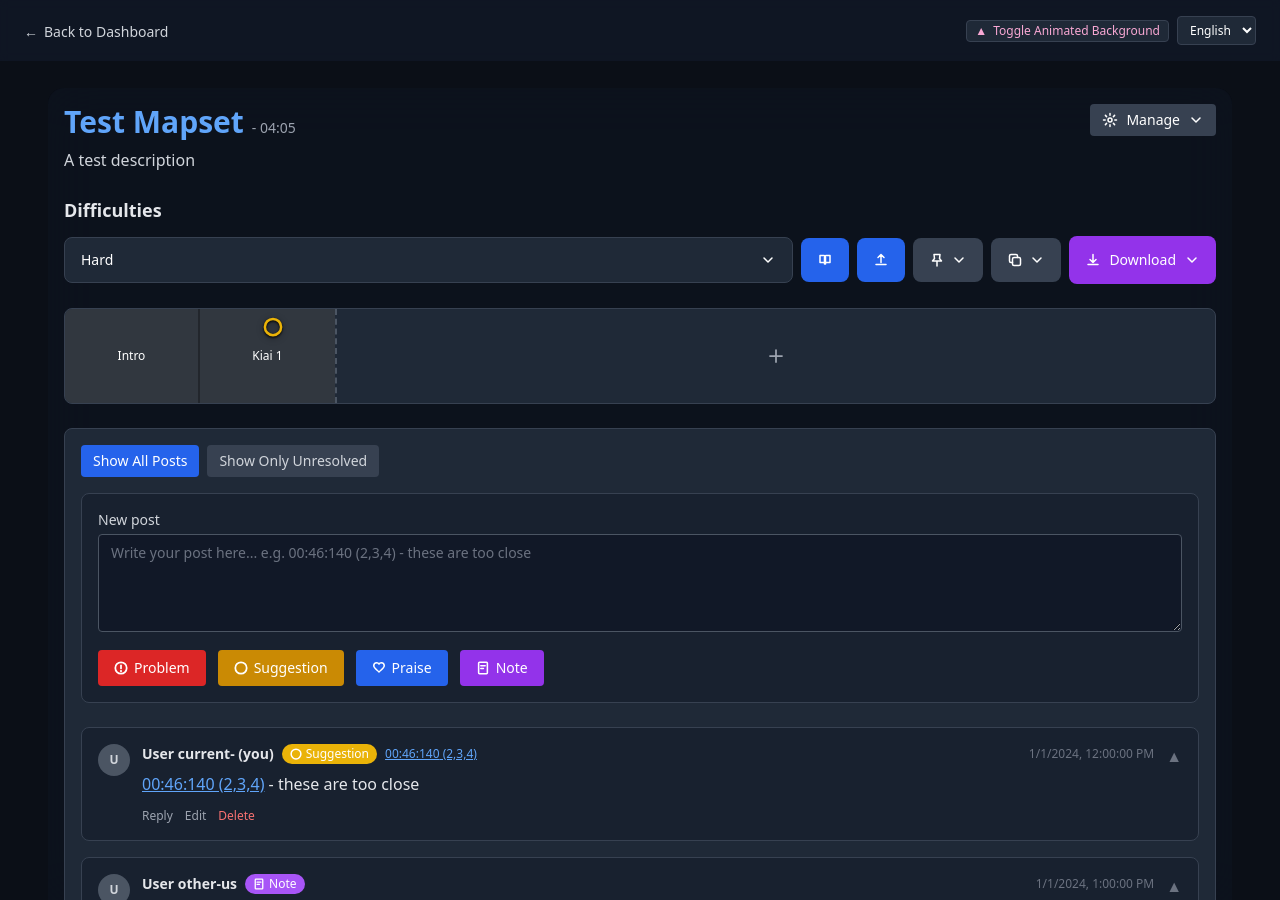
MapsetPage › opens create difficulty modal when Add Difficulty is clicked
Click the button with aria-label "Toggle difficulty list".
click(97, 260)  # box left=64, top=237, right=793, bottom=283
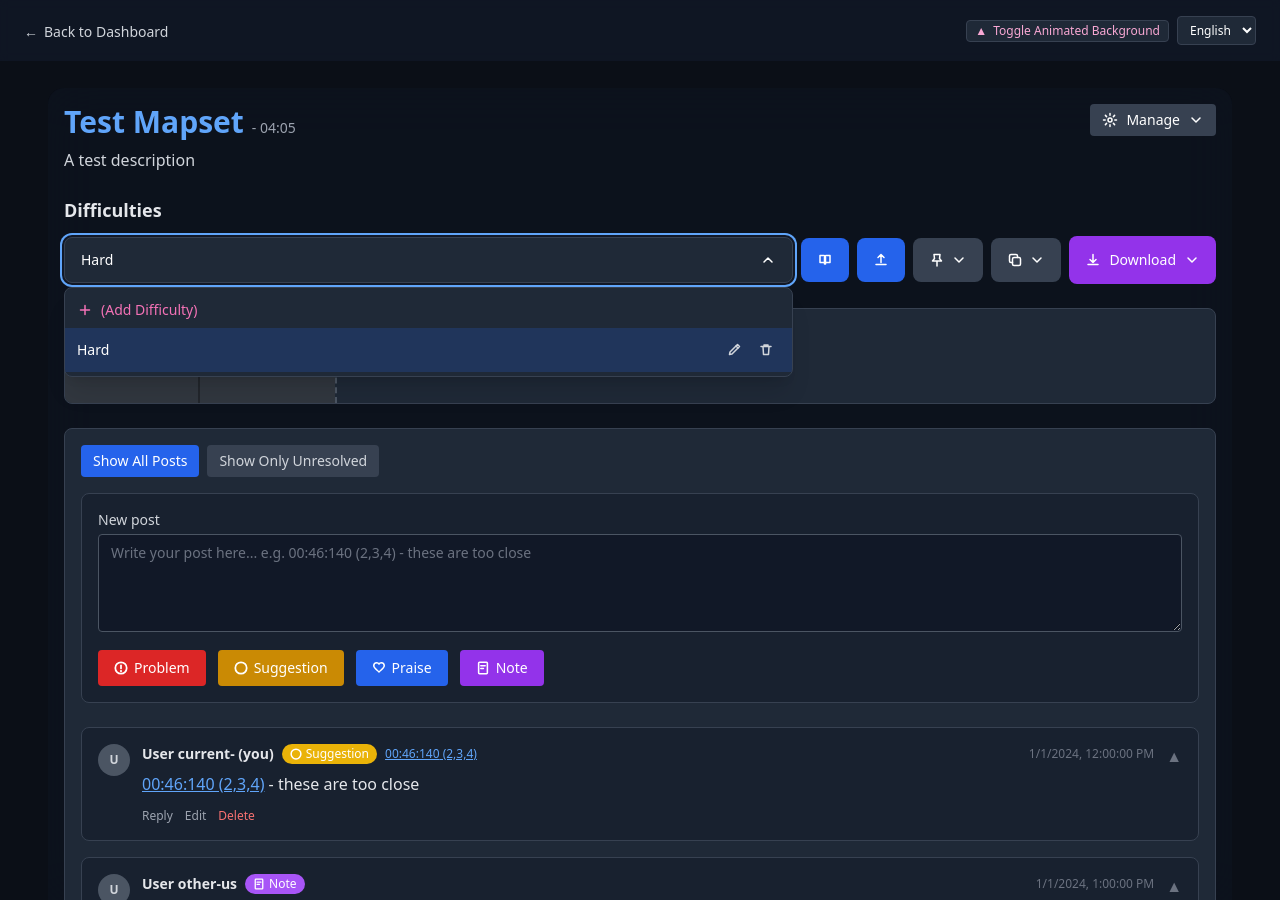
Click the button "(Add Difficulty)".
click(149, 310)  # box left=65, top=292, right=792, bottom=328
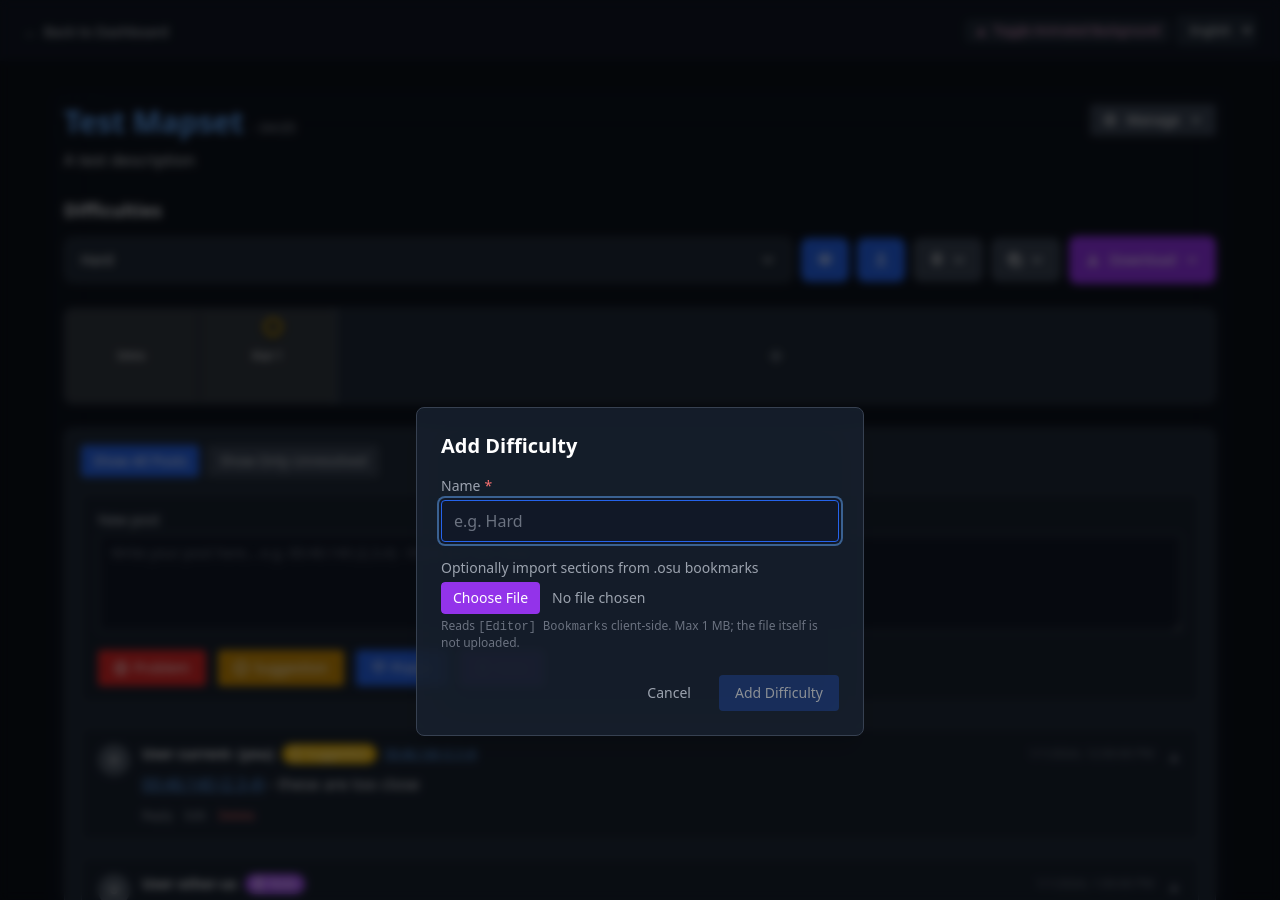
Check: the heading "Add Difficulty" is shown, box left=441, top=432, right=577, bottom=458
